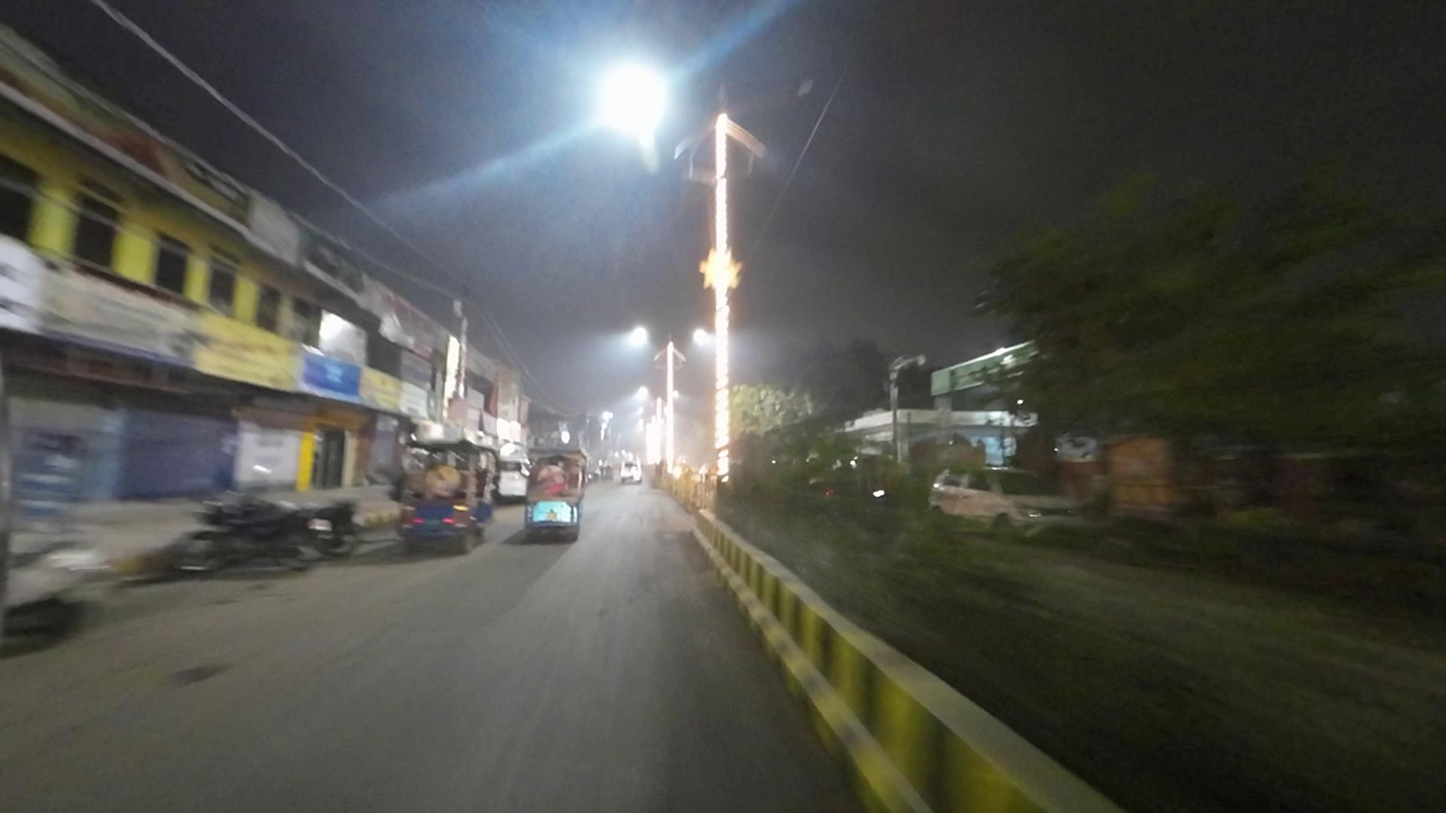streetlight: (734, 74, 818, 106)
